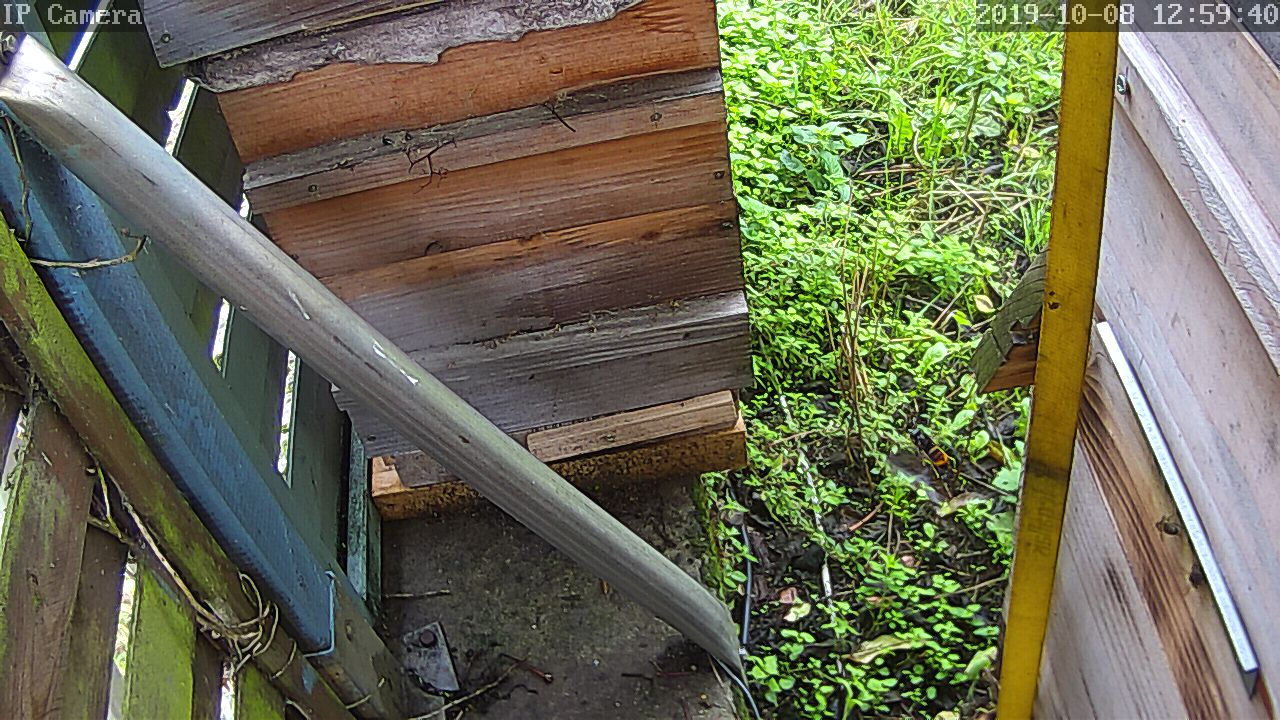bee: (1176, 555, 1212, 594), (1150, 512, 1185, 546)
hornet: (903, 424, 953, 479)
